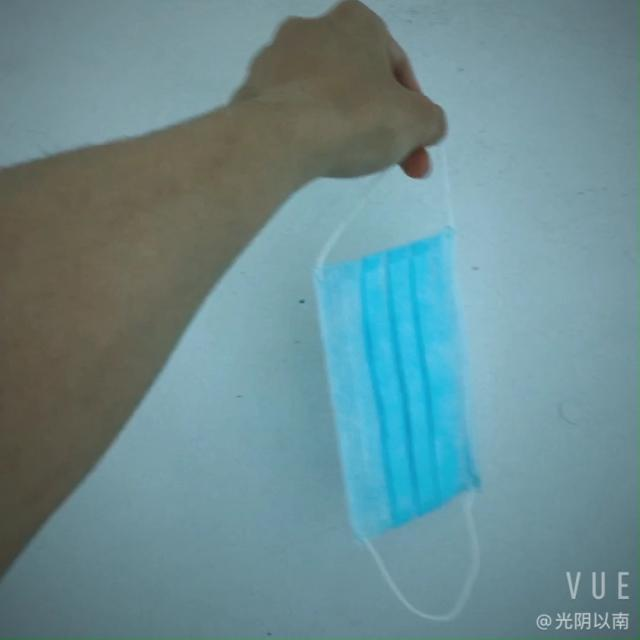face mask: (311, 224, 487, 546)
